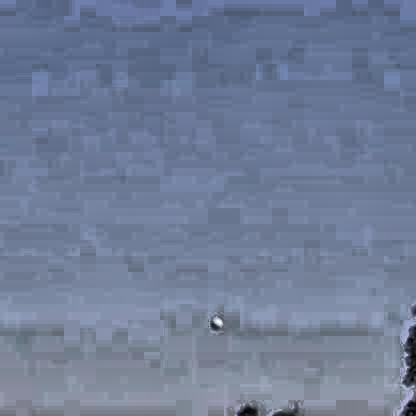golfball: (206, 314, 220, 327)
